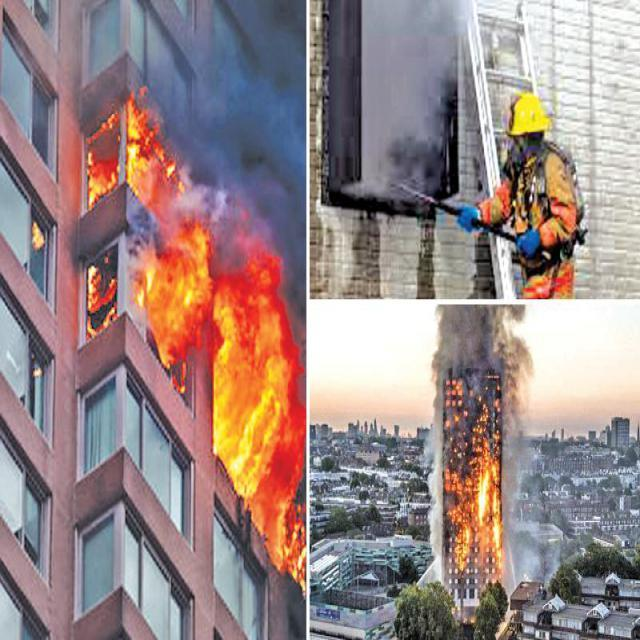Fire: (84, 100, 304, 574), (435, 400, 507, 592)
